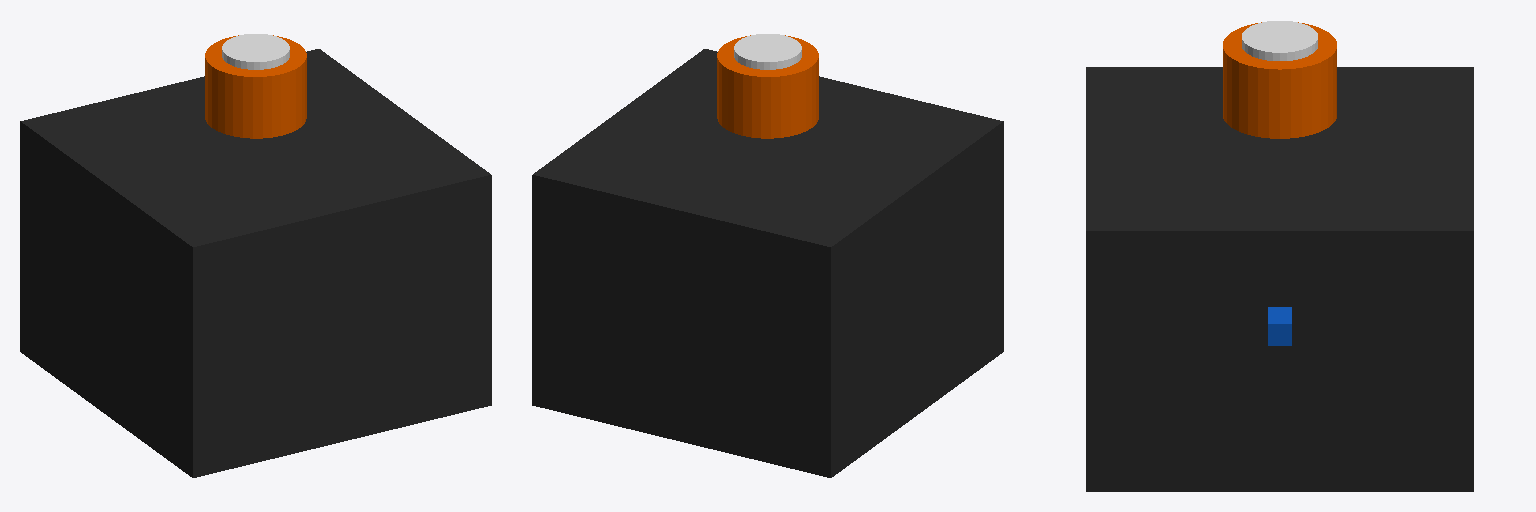
The robot description file, URDF, robot "diy_challenge_robot":
<?xml version="1.0" ?>
<!-- =================================================================================== -->
<!-- |    This document was autogenerated by xacro from robot.urdf.xacro               | -->
<!-- |    EDITING THIS FILE BY HAND IS NOT RECOMMENDED                                 | -->
<!-- =================================================================================== -->
<!--
  DIY Challenge 2026 — Robot Description
  ========================================
  Frame conventions follow REP-103 and REP-105.
  All extrinsics below are PLACEHOLDER values.
  Replace every "CALIB:" comment with measured/calibrated values
  before running autonomous navigation.

  Frame tree (required by Nav2 & FAST-LIO2):
    map
     └── odom            (published by navsat_transform / EKF2)
          └── base_link  (published by EKF1 via /odometry/filtered)
               ├── lidar_link   <- fixed, from lidar_imu_calib
               ├── imu_link     <- fixed, from lidar_imu_calib
               ├── camera_link  <- fixed, from cam_lidar_calib
               └── gps_link     <- fixed, measured lever arm

  Robot body: 406 mm L × 406 mm W × 406 mm H (16" × 16" × 16")
  All dimensions in metres, angles in radians.
-->
<robot name="diy_challenge_robot">
  <!-- ═══════════════════════════════════════ MATERIALS ══ -->
  <material name="dark_grey">
    <color rgba="0.2 0.2 0.2 1.0"/>
  </material>
  <material name="blue">
    <color rgba="0.1 0.4 0.8 1.0"/>
  </material>
  <material name="green">
    <color rgba="0.1 0.8 0.2 1.0"/>
  </material>
  <material name="orange">
    <color rgba="0.9 0.4 0.0 1.0"/>
  </material>
  <material name="white">
    <color rgba="0.9 0.9 0.9 1.0"/>
  </material>
  <!-- ═══════════════════════════════════════ BASE LINK ══ -->
  <link name="base_link">
    <visual>
      <geometry>
        <box size="0.406 0.406 0.3"/>
      </geometry>
      <origin rpy="0 0 0" xyz="0 0 0.15"/>
      <material name="dark_grey"/>
    </visual>
    <collision>
      <geometry>
        <box size="0.610 0.406 0.406"/>
      </geometry>
      <origin rpy="0 0 0" xyz="0 0 0.203"/>
    </collision>
    <inertial>
      <mass value="8.0"/>
      <inertia ixx="0.1" ixy="0.0" ixz="0.0" iyy="0.1" iyz="0.0" izz="0.1"/>
    </inertial>
  </link>
  <!-- ═══════════════════════════════════════ LIDAR LINK ══
       Hesai QT64 — mounted on top centre of chassis.
       CALIB: Replace xyz and rpy with lidar_imu_calib extrinsic output.
             extrinsic_T goes into xyz, extrinsic_R (Euler) into rpy. -->
  <link name="lidar_link">
    <visual>
      <geometry>
        <cylinder length="0.08" radius="0.06"/>
      </geometry>
      <material name="orange"/>
    </visual>
  </link>
  <joint name="base_to_lidar" type="fixed">
    <parent link="base_link"/>
    <child link="lidar_link"/>
    <!-- CALIB: Replace with lidar_imu_calib result for lidar→imu, then
                compute imu→base_link to get this transform. -->
    <origin rpy="0.0 0.0 0.0" xyz="0.0 0.0 0.38"/>
  </joint>
  <!-- ═══════════════════════════════════════ IMU LINK ══
       Dedicated 6-DOF IMU (NOT the D435i built-in IMU).
       CALIB: Replace with lidar_imu_calib extrinsic result.
             This is the IMU→LiDAR transform inverse. -->
  <link name="imu_link">
    <visual>
      <geometry>
        <box size="0.03 0.03 0.015"/>
      </geometry>
      <material name="green"/>
    </visual>
  </link>
  <joint name="base_to_imu" type="fixed">
    <parent link="base_link"/>
    <child link="imu_link"/>
    <!-- CALIB: Replace with measured/calibrated IMU mount position. -->
    <origin rpy="0.0 0.0 0.0" xyz="0.0 0.0 0.25"/>
  </joint>
  <!-- ═══════════════════════════════════════ CAMERA LINK ══
       RealSense D435i — mounted front of chassis, facing forward.
       CALIB: Replace with cam_lidar_calib extrinsic result.
             camera_link is the standard RealSense optical frame origin. -->
  <link name="camera_link">
    <visual>
      <geometry>
        <box size="0.09 0.025 0.025"/>
      </geometry>
      <material name="blue"/>
    </visual>
  </link>
  <joint name="base_to_camera" type="fixed">
    <parent link="base_link"/>
    <child link="camera_link"/>
    <!-- CALIB: Replace xyz with measured mount position.
                rpy: camera faces forward (+x of base_link), need
                RealSense→ROS optical convention if using stereo topics. -->
    <origin rpy="0.0 0.0 0.0" xyz="0.20 0.0 0.20"/>
  </joint>
  <!-- Camera optical frame (required by apriltag_ros and realsense2_ros) -->
  <link name="camera_optical_link"/>
  <joint name="camera_to_optical" type="fixed">
    <parent link="camera_link"/>
    <child link="camera_optical_link"/>
    <!-- ROS optical convention: x right, y down, z into scene -->
    <origin rpy="-1.5707963 0 -1.5707963" xyz="0 0 0"/>
  </joint>
  <!-- ═══════════════════════════════════════ GPS LINK ══
       RTK GNSS antenna phase centre.
       CALIB: Physically measure the 3D offset from antenna phase centre
              to base_link origin (geometric centre at floor level).
              An uncompensated 10 cm lever arm causes systematic heading error. -->
  <link name="gps_link">
    <visual>
      <geometry>
        <cylinder length="0.02" radius="0.04"/>
      </geometry>
      <material name="white"/>
    </visual>
  </link>
  <joint name="base_to_gps" type="fixed">
    <parent link="base_link"/>
    <child link="gps_link"/>
    <!-- CALIB: Replace with physically measured antenna phase centre position. -->
    <origin rpy="0.0 0.0 0.0" xyz="0.0 0.0 0.42"/>
  </joint>
</robot>

--- Facts derived from the render (not from the file) ---
The picture shows the robot from 3 angles, left to right: view 1: azimuth 30°, elevation 25°; view 2: azimuth 150°, elevation 25°; view 3: azimuth 270°, elevation 25°; orthographic projection.
Model diy_challenge_robot with 6 links and 5 joints (5 fixed), rooted at base_link, posed all joints at 0.
Visible links, largest first — view 1: base_link, lidar_link, gps_link; view 2: base_link, lidar_link, gps_link; view 3: base_link, lidar_link, gps_link, camera_link.
Boxes of the visible links, x1,y1,x2,y2 form: base_link: (20, 49, 491, 477); lidar_link: (205, 35, 306, 138); gps_link: (222, 34, 289, 69); base_link: (532, 49, 1003, 477); lidar_link: (717, 35, 818, 138); gps_link: (734, 34, 801, 69); base_link: (1086, 67, 1473, 491); lidar_link: (1223, 22, 1336, 138); gps_link: (1242, 21, 1317, 60); camera_link: (1268, 307, 1291, 345).
Size in the robot's own frame: 0.448 by 0.406 by 0.43 metres.
Geometry: primitives only (box / cylinder / sphere), no mesh files.
